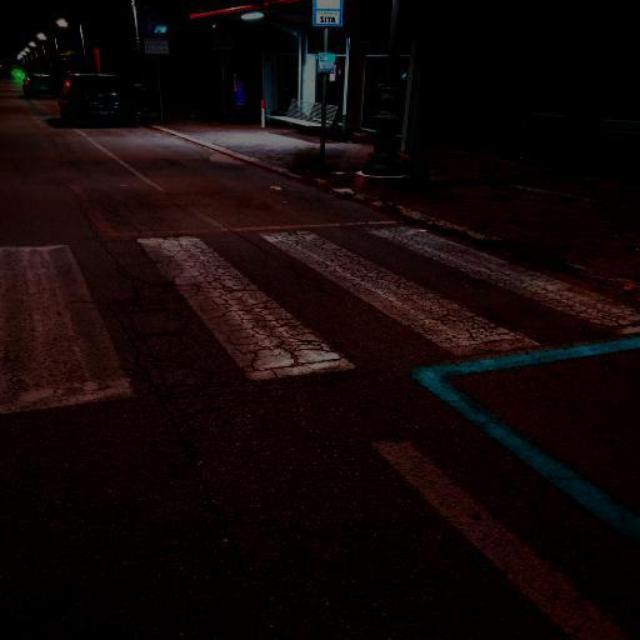sidewalk: (0, 217, 638, 408)
